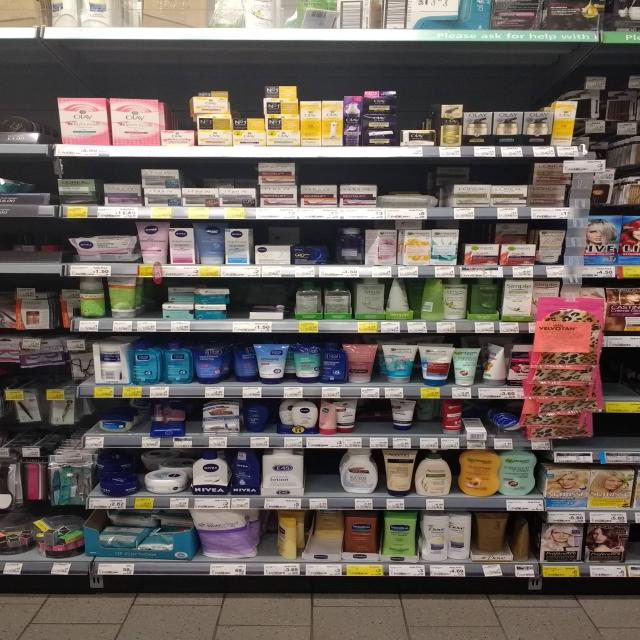void: (605, 349, 640, 411), (599, 414, 640, 464), (2, 220, 36, 273), (307, 448, 336, 508), (38, 220, 65, 274), (136, 276, 163, 330), (180, 398, 200, 447)
